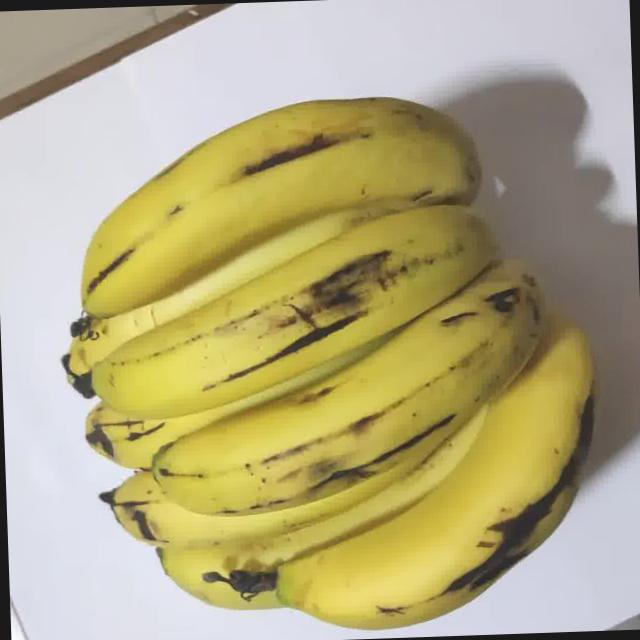banana_pacche: (21, 24, 640, 640)
